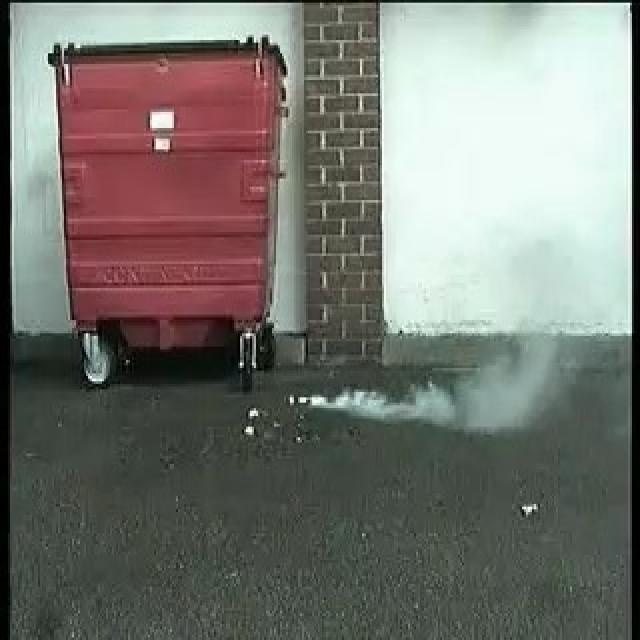smoke: (306, 347, 544, 424)
